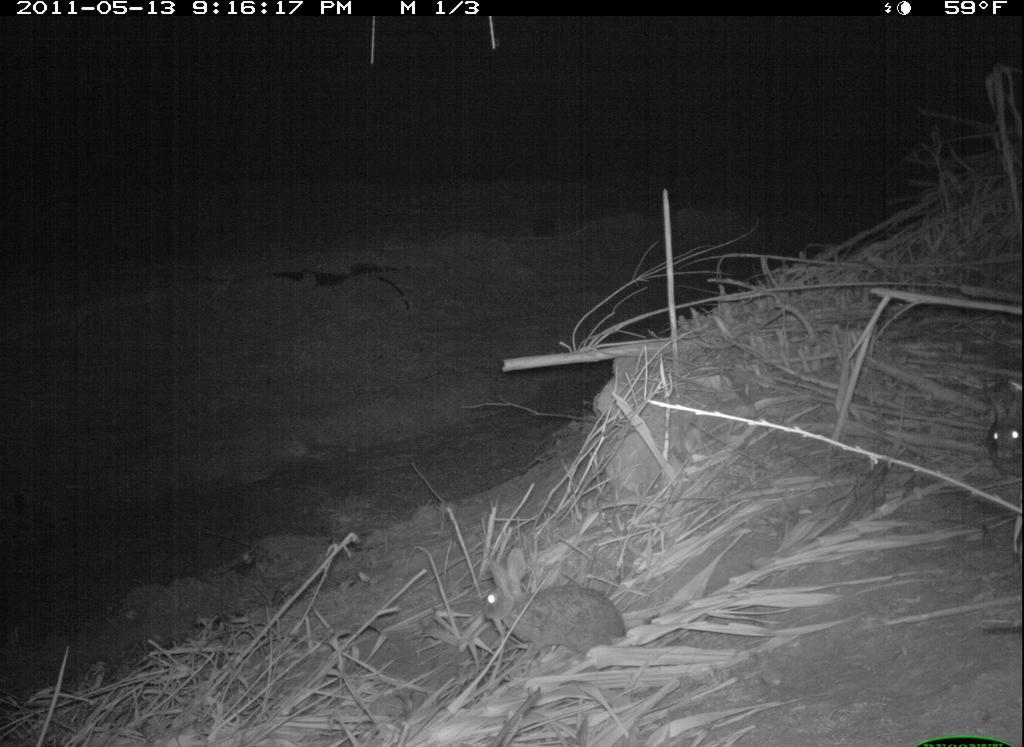rabbit: (473, 546, 633, 673), (972, 374, 1024, 491)
